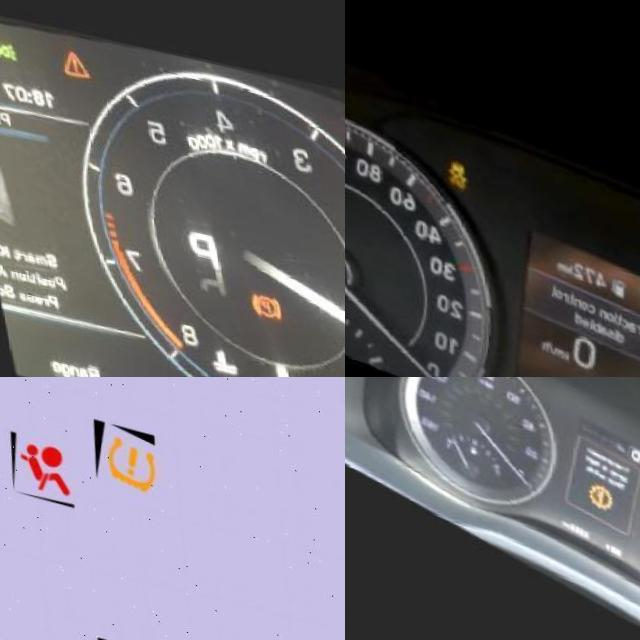Engine cooling system: (197, 337, 228, 371)
Low fuel level: (465, 442, 473, 451)
